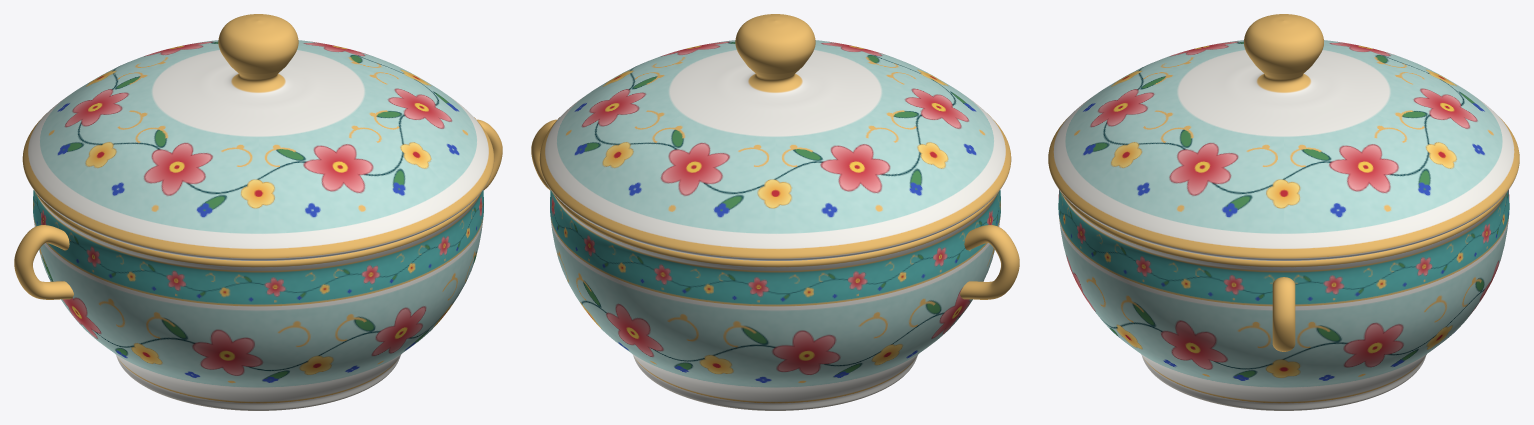
Rendered from imperial-tureen.glb.
3 renders of one model, left to right at view 1: azimuth 30°, elevation 25°; view 2: azimuth 150°, elevation 25°; view 3: azimuth 270°, elevation 25°, orthographic.
Parts seen in each view (by area): view 1: imperial-tureen-lid, imperial-tureen-body, imperial-tureen-handles; view 2: imperial-tureen-lid, imperial-tureen-body, imperial-tureen-handles; view 3: imperial-tureen-lid, imperial-tureen-body, imperial-tureen-handles.
Part boxes in pixels (<box>): imperial-tureen-lid: <box>22,14,494,260</box>; imperial-tureen-body: <box>33,190,483,410</box>; imperial-tureen-handles: <box>14,119,502,299</box>; imperial-tureen-lid: <box>539,14,1011,260</box>; imperial-tureen-body: <box>550,190,1000,410</box>; imperial-tureen-handles: <box>531,119,1019,299</box>; imperial-tureen-lid: <box>1048,14,1519,260</box>; imperial-tureen-body: <box>1058,190,1509,410</box>; imperial-tureen-handles: <box>1272,277,1295,351</box>.
Size of the model in its own units: 0.2932 by 0.1917 by 0.247.
3 materials, 2 textured.
